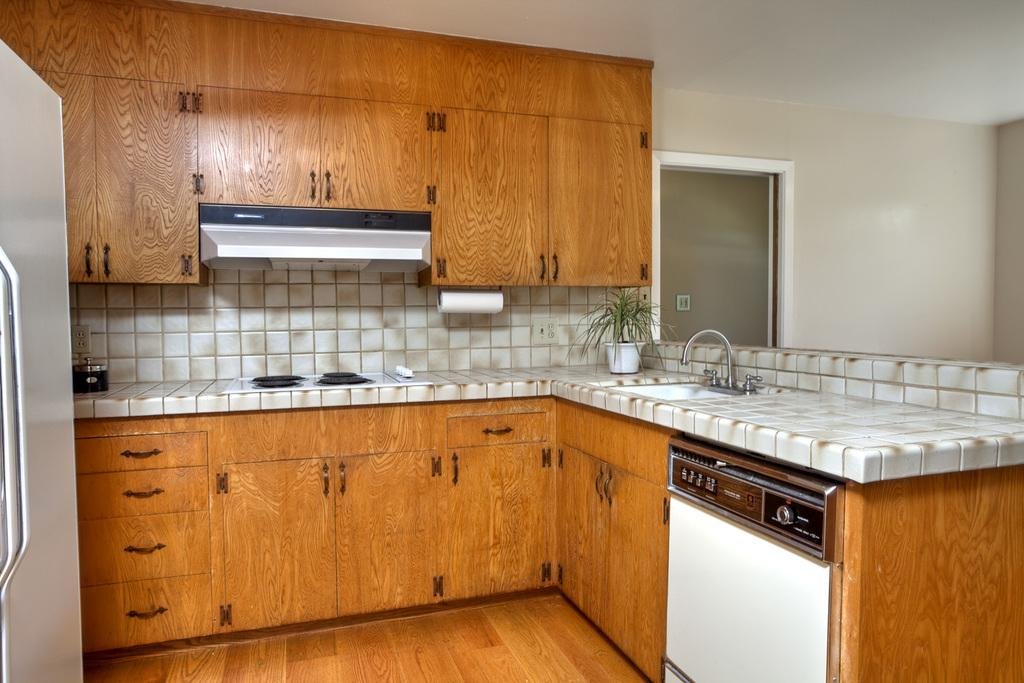cabinet_door: (99, 84, 195, 282), (440, 118, 548, 288), (553, 121, 653, 288), (234, 472, 332, 604), (204, 91, 318, 200), (343, 460, 425, 595), (452, 454, 538, 572), (324, 111, 422, 210), (608, 470, 662, 644), (92, 524, 210, 574), (566, 458, 606, 598), (89, 591, 207, 633), (87, 476, 200, 508), (93, 439, 204, 466), (450, 416, 540, 440)
handle: (0, 250, 44, 590), (119, 539, 168, 558), (124, 604, 170, 620), (124, 487, 166, 503), (321, 173, 339, 205), (118, 445, 162, 458), (100, 242, 114, 281), (316, 467, 334, 496), (601, 474, 615, 508), (336, 463, 350, 497), (82, 245, 96, 276), (450, 453, 462, 488), (480, 425, 514, 437), (550, 249, 562, 280), (594, 466, 604, 502), (306, 169, 318, 199), (540, 248, 546, 288)
